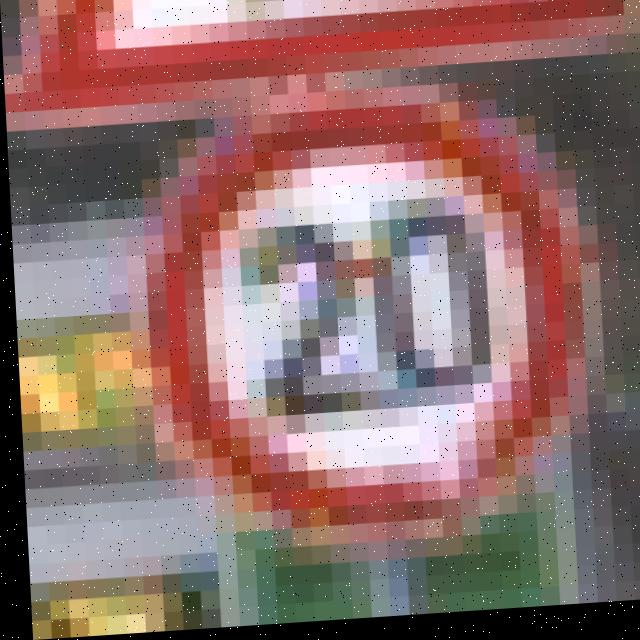speed_limit_20: (134, 88, 604, 559)
